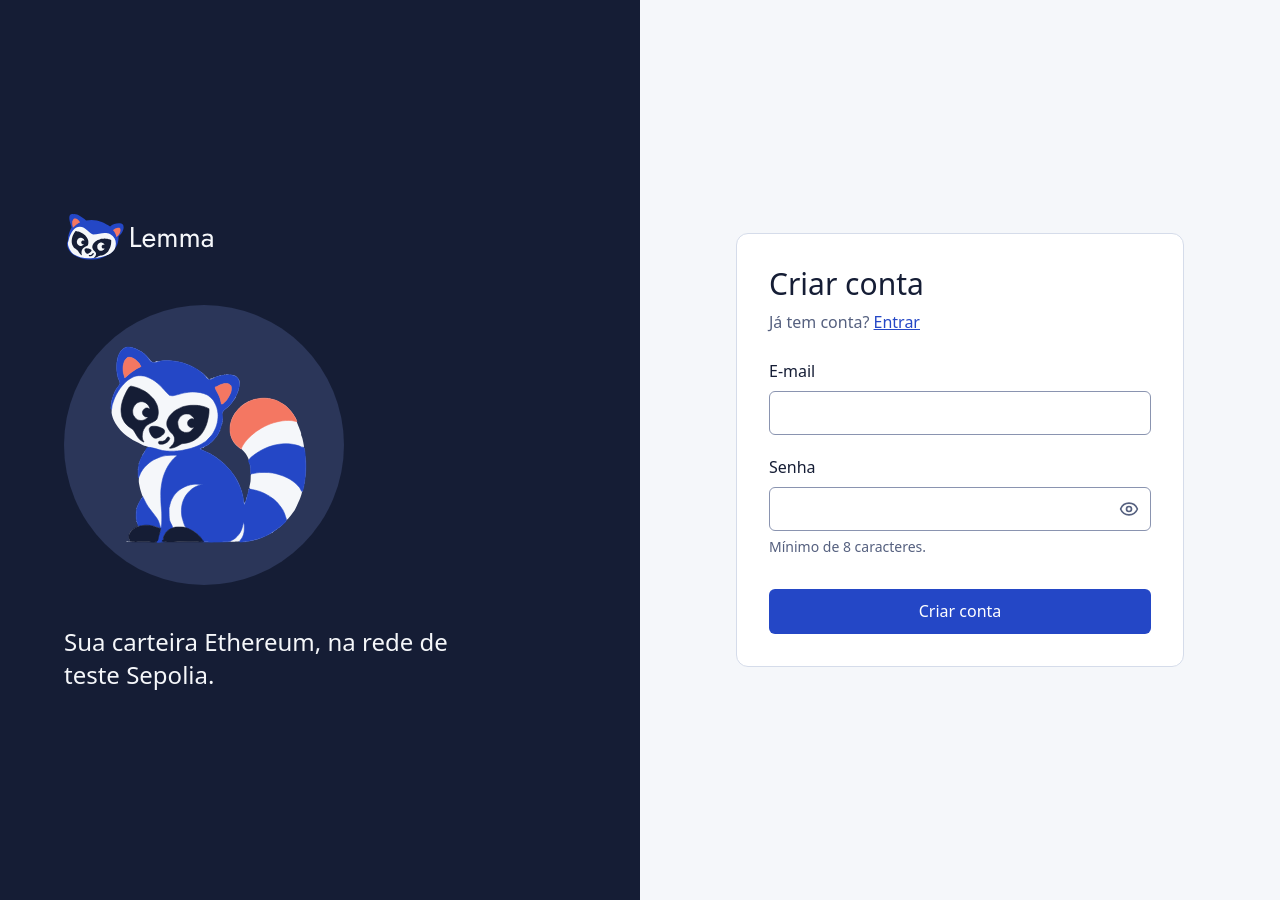
Test case: RegisterPage: validação por campo › e-mail com espaço no fim é aceito e enviado sem o espaço; a senha vai como digitada
expect the heading "Criar conta" is shown: met, box [769,263,924,304]
Type "ana@example.com  " into the field labelled "E-mail" at (960, 413), box [769,391,1151,435]
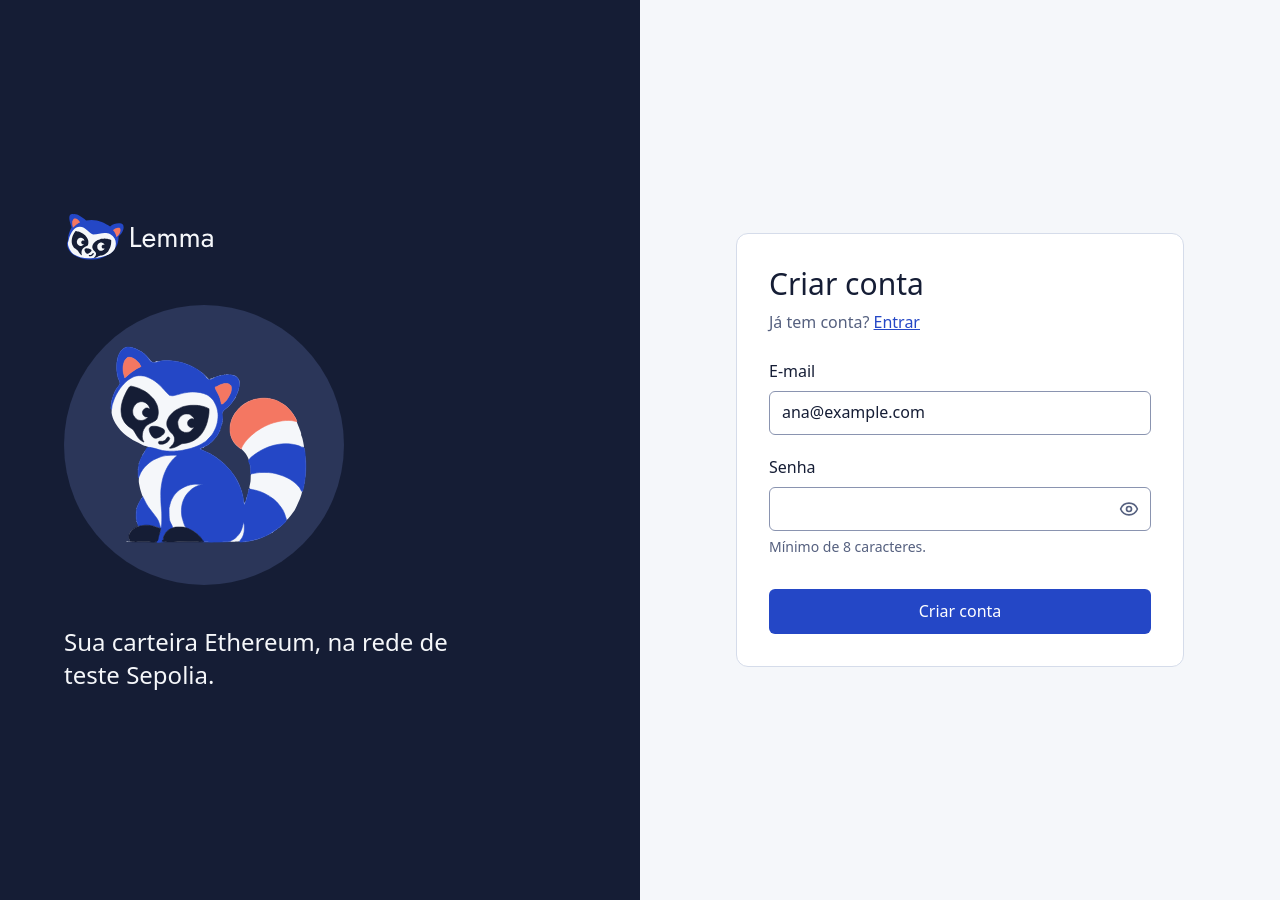
Type " Senha@12345 " into the password field labelled "Senha" at (960, 509), box [769,487,1151,531]
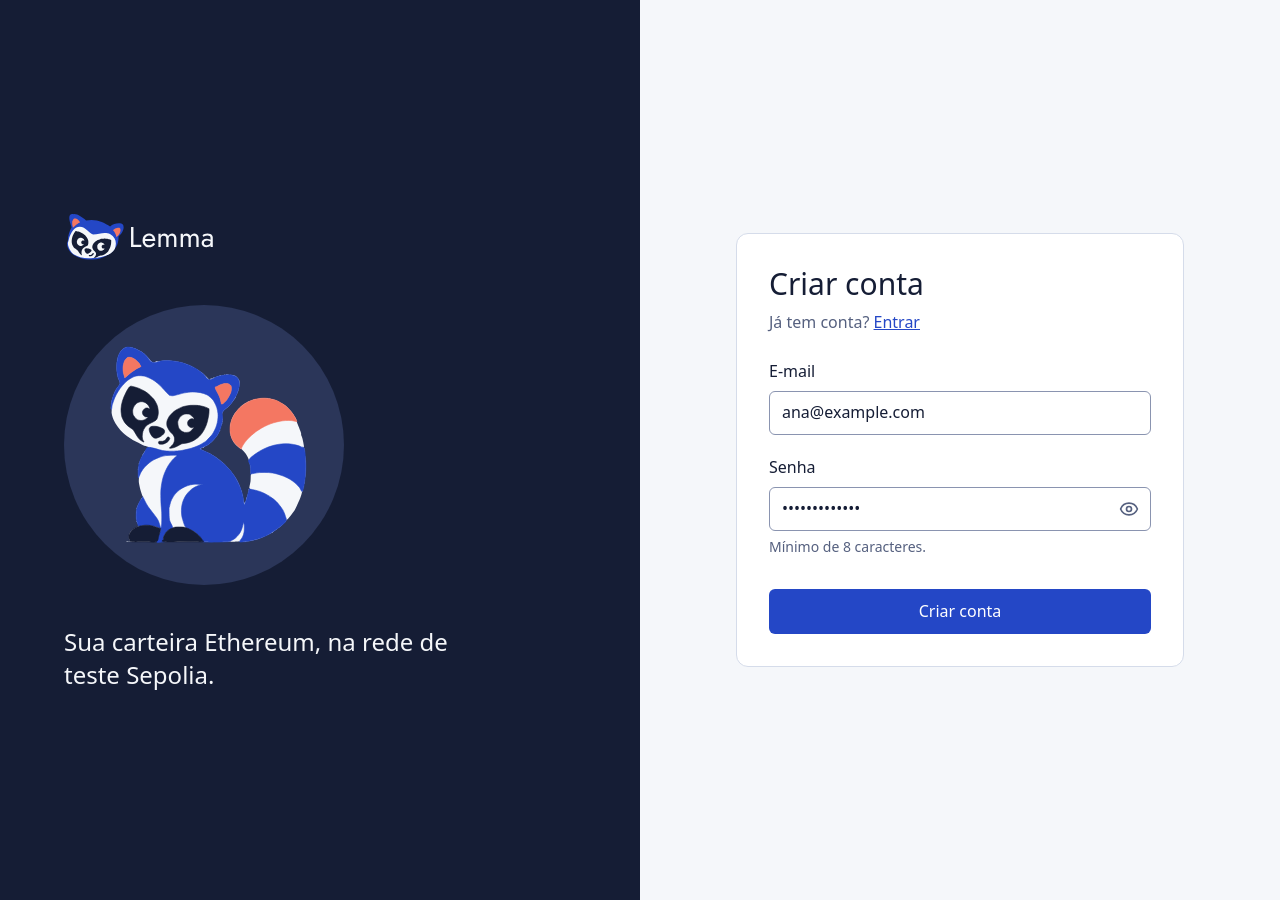
Click the button "Criar conta" at (960, 611), box [769,589,1151,634]
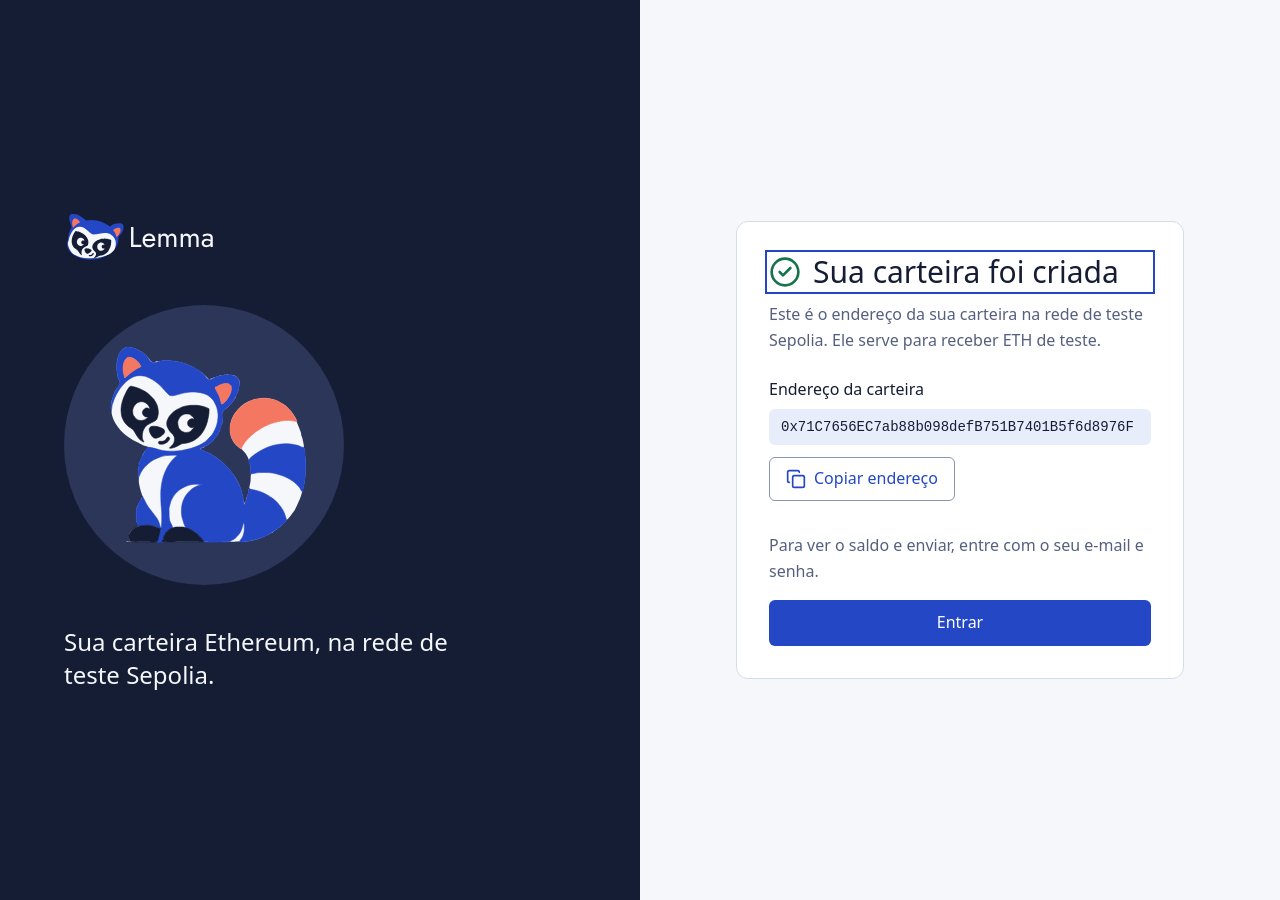
expect the heading "Sua carteira foi criada" is shown: met, box [769,254,1151,290]
